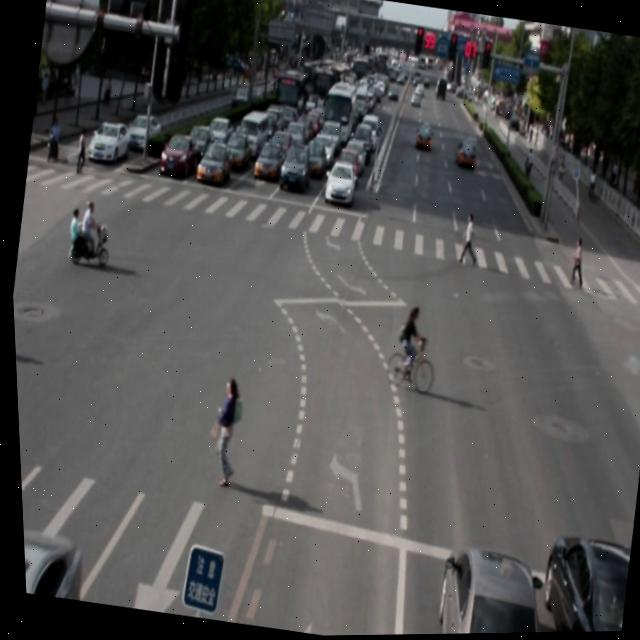car: (425, 547, 549, 635), (522, 536, 628, 634), (18, 521, 86, 602)
